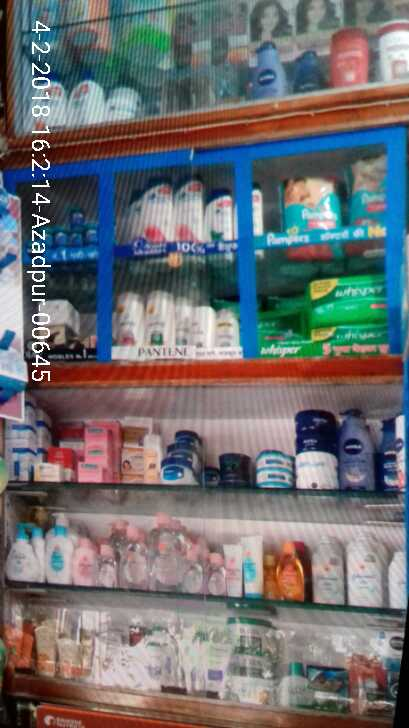vicks: (37, 200, 103, 252)
